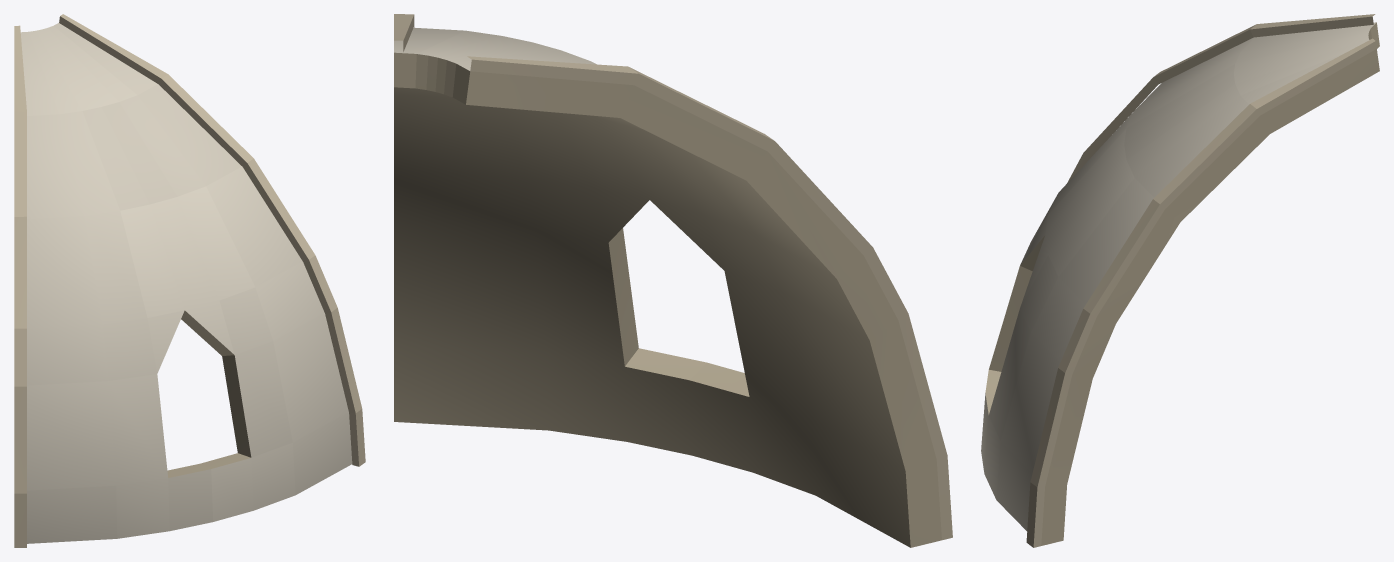
File: dome.panel_6_window.plaster.glb
3 views of the same model, side by side, from view 1: azimuth 30°, elevation 25°; view 2: azimuth 150°, elevation 25°; view 3: azimuth 270°, elevation 25° (orthographic). The views are drawn at different scales.
Parts seen in each view (by area): view 1: dome_panel_6_window_plaster; view 2: dome_panel_6_window_plaster; view 3: dome_panel_6_window_plaster.
Part boxes in pixels (x1,y1,x2,y2): dome_panel_6_window_plaster: (14,14,365,547); dome_panel_6_window_plaster: (394,14,952,547); dome_panel_6_window_plaster: (981,14,1379,547).
Size of what is drawn, in the model's own units: 3.57 by 3.63 by 3.1.
